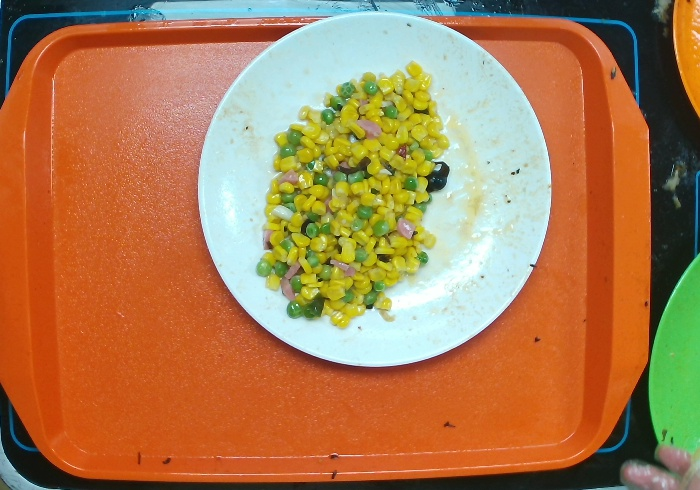HZYJPL-Bai_Se_Yuan_Pan: (188, 4, 560, 381)
